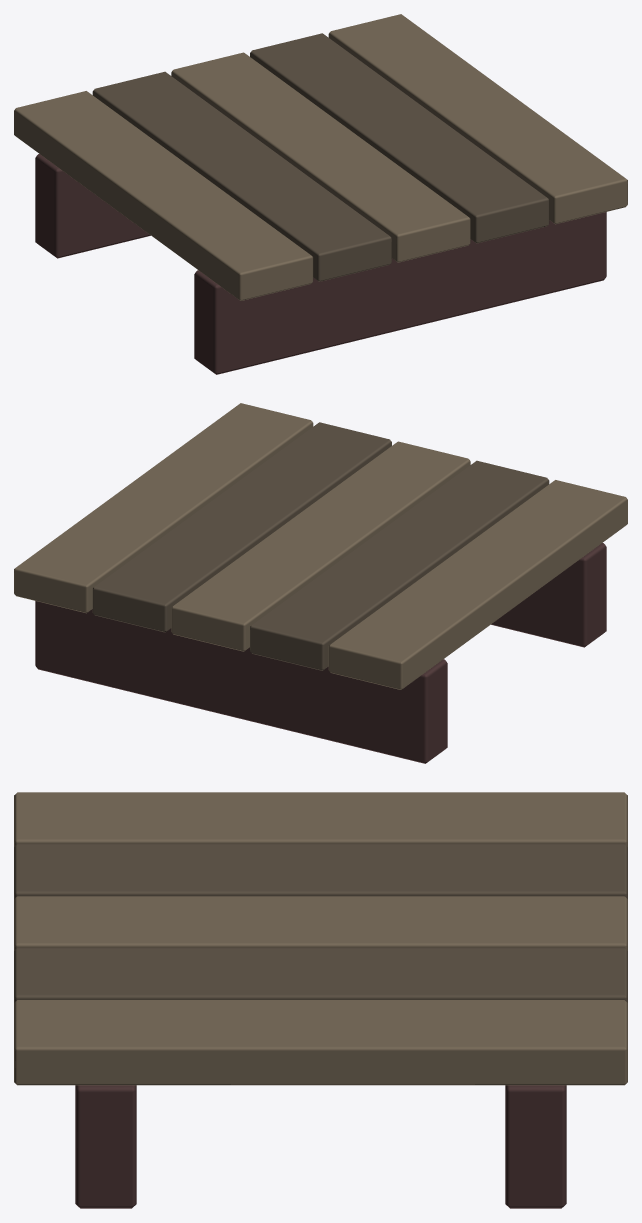
The model's file is ghost-town-bridge-deck.a7e8ba7b.glb.
3 views of the same model, one above another, from view 1: azimuth 30°, elevation 25°; view 2: azimuth 150°, elevation 25°; view 3: azimuth 270°, elevation 25° (orthographic). The views are drawn at different scales.
Visible parts, largest first — view 1: body; view 2: body; view 3: body.
Part boxes in pixels (x1=…): body: x1=14, y1=14, x2=627, y2=374; body: x1=14, y1=403, x2=627, y2=763; body: x1=14, y1=792, x2=627, y2=1208.
Size of the model in its own units: 1 by 0.29 by 1.
